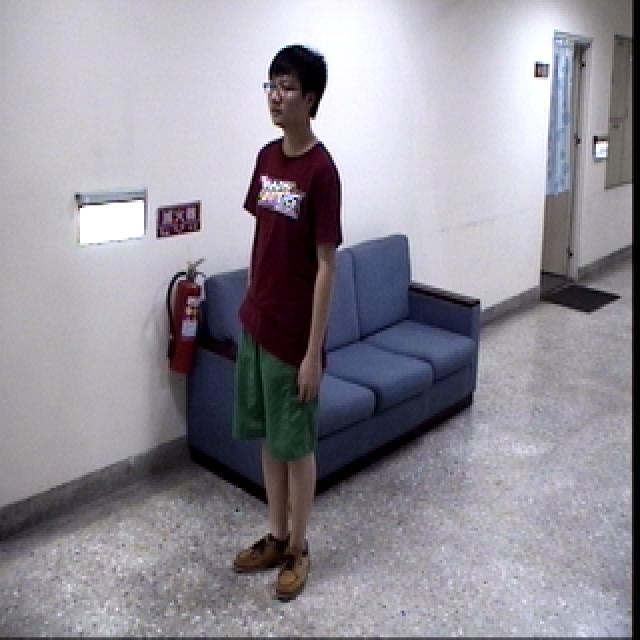stand: (227, 42, 346, 603)
